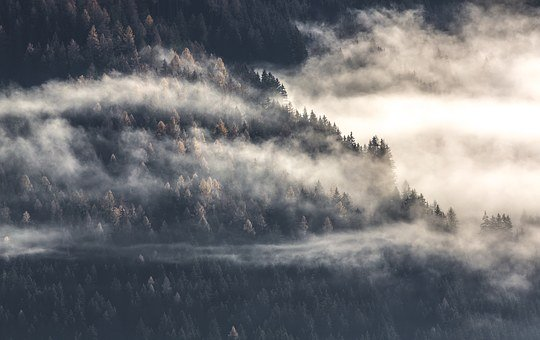forest: (8, 5, 452, 335)
mountain: (5, 12, 527, 340)
